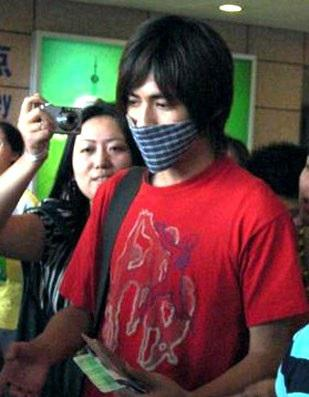NONE: (77, 126, 133, 196)
WRONG: (120, 87, 203, 170)
